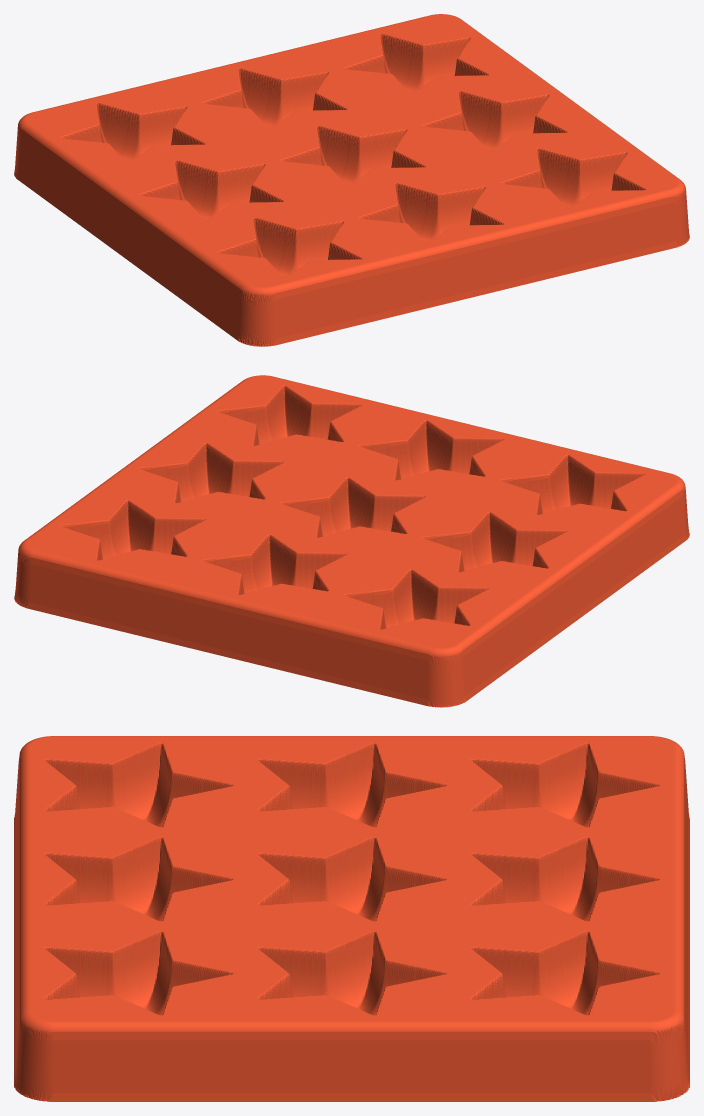
File: mold.glb
The picture shows the model from 3 angles, top to bottom: view 1: azimuth 30°, elevation 25°; view 2: azimuth 150°, elevation 25°; view 3: azimuth 270°, elevation 25°; orthographic projection. The views are drawn at different scales.
Parts seen in each view (by area): view 1: geometry_0; view 2: geometry_0; view 3: geometry_0.
Part boxes in pixels (x1,y1,x2,y2): geometry_0: [14, 14, 689, 346]; geometry_0: [14, 375, 689, 707]; geometry_0: [14, 736, 689, 1101].
Size of the model in its own units: 0.1595 by 0.0185 by 0.1531.
